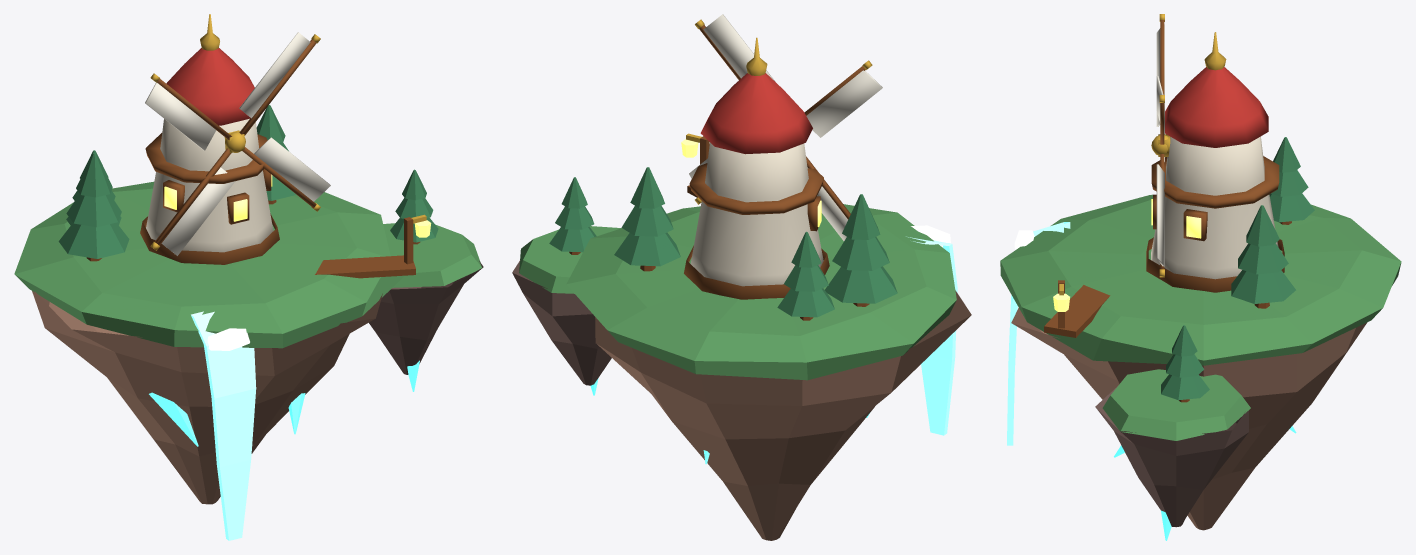
Rendered from floating_aether_island.glb.
3 renders of one model, left to right at view 1: azimuth 30°, elevation 25°; view 2: azimuth 150°, elevation 25°; view 3: azimuth 270°, elevation 25°, orthographic. The views are drawn at different scales.
Visible parts, largest first — view 1: IslandTerrain, HarborTower, WindmillBlades; view 2: IslandTerrain, HarborTower, WindmillBlades; view 3: IslandTerrain, HarborTower, WindmillBlades.
Part boxes in pixels (left/top/right/bottom): IslandTerrain: left=14, top=105, right=483, bottom=540; HarborTower: left=140, top=14, right=279, bottom=264; WindmillBlades: left=145, top=32, right=330, bottom=255; IslandTerrain: left=512, top=133, right=971, bottom=540; HarborTower: left=684, top=37, right=829, bottom=299; WindmillBlades: left=689, top=14, right=882, bottom=240; IslandTerrain: left=1000, top=137, right=1401, bottom=540; HarborTower: left=1146, top=32, right=1284, bottom=292; WindmillBlades: left=1151, top=14, right=1168, bottom=277.
Bounding box in the file's own units: 6.4 × 7.03 × 5.14.
